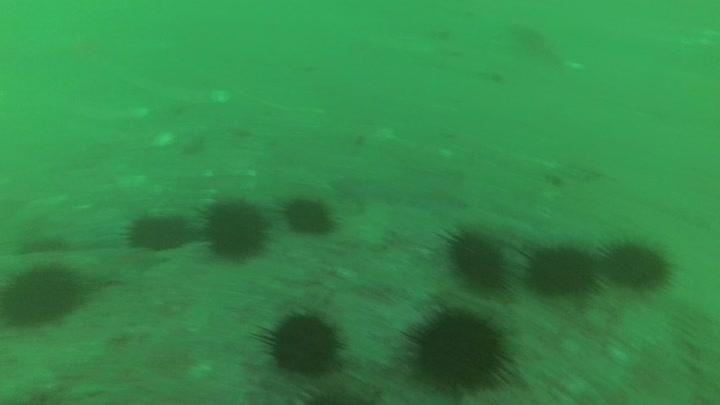echinus: (403, 304, 514, 396), (257, 307, 346, 379), (1, 259, 86, 329), (442, 224, 512, 295), (522, 240, 602, 300), (200, 196, 271, 263), (599, 234, 676, 294), (124, 210, 190, 254), (282, 195, 337, 237)
starfish: (84, 245, 168, 288)
